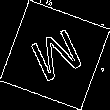M_SE: (23, 22, 87, 88)
